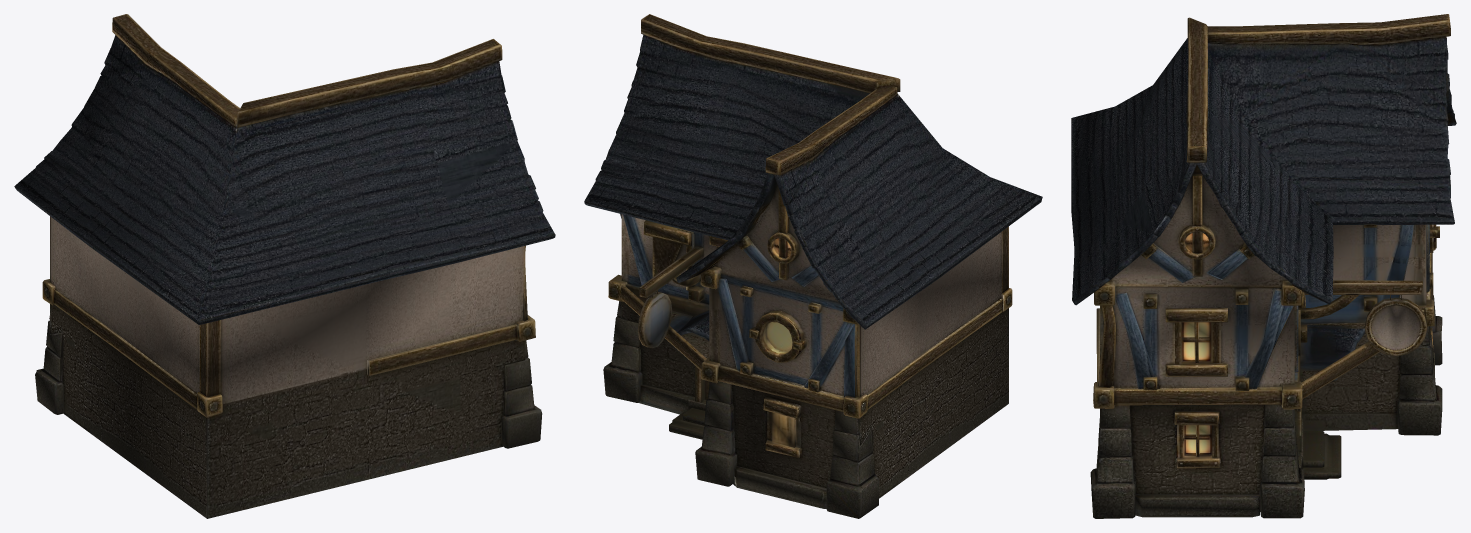
Rendered from tripo_convert_18acd71e-d550-41a6-b8cc-582d2bb904de.fbx.
3 renders of one model, left to right at view 1: azimuth 30°, elevation 25°; view 2: azimuth 150°, elevation 25°; view 3: azimuth 270°, elevation 25°, orthographic. The views are drawn at different scales.
Visible parts, largest first — view 1: tripo_node_18acd71e; view 2: tripo_node_18acd71e; view 3: tripo_node_18acd71e.
Part boxes in pixels (x1=…): tripo_node_18acd71e: x1=14, y1=14, x2=555, y2=518; tripo_node_18acd71e: x1=584, y1=14, x2=1042, y2=518; tripo_node_18acd71e: x1=1071, y1=14, x2=1456, y2=518.
Bounding box in the file's own units: 0.998 × 0.9668 × 0.8926.
1 material, 1 textured.
